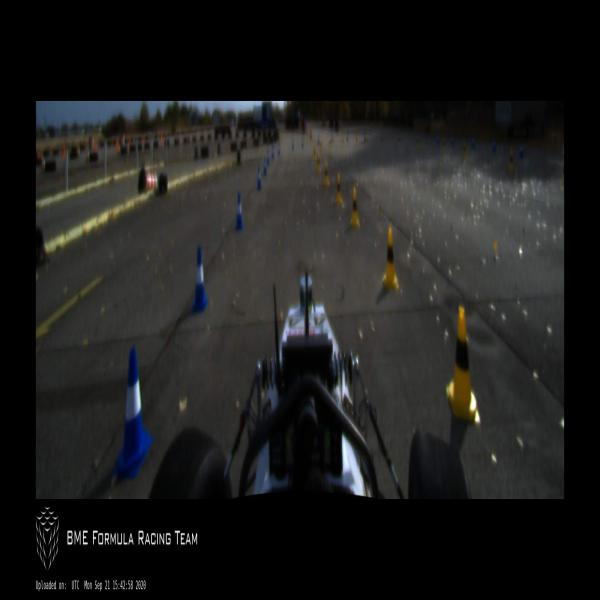blue_cone: (112, 348, 154, 476), (192, 246, 208, 310), (235, 193, 243, 229), (520, 141, 524, 158), (258, 167, 261, 189), (472, 136, 475, 147), (301, 136, 304, 147), (264, 158, 266, 174), (267, 148, 269, 164), (451, 135, 454, 145), (272, 144, 274, 157), (493, 139, 495, 151), (278, 143, 280, 154), (292, 138, 294, 148), (318, 135, 320, 145), (437, 135, 439, 144), (364, 133, 366, 141), (331, 134, 333, 141), (347, 132, 348, 140)
yellow_cone: (446, 306, 480, 423), (382, 227, 399, 289), (350, 189, 360, 228), (335, 174, 342, 204), (508, 148, 515, 171), (324, 162, 329, 186), (317, 154, 320, 172), (463, 140, 466, 158), (313, 146, 316, 160), (442, 137, 445, 151), (416, 136, 419, 147), (398, 136, 401, 147), (381, 136, 383, 146), (320, 142, 322, 152), (356, 136, 358, 145), (329, 139, 331, 147), (366, 138, 368, 146), (342, 138, 344, 146)
